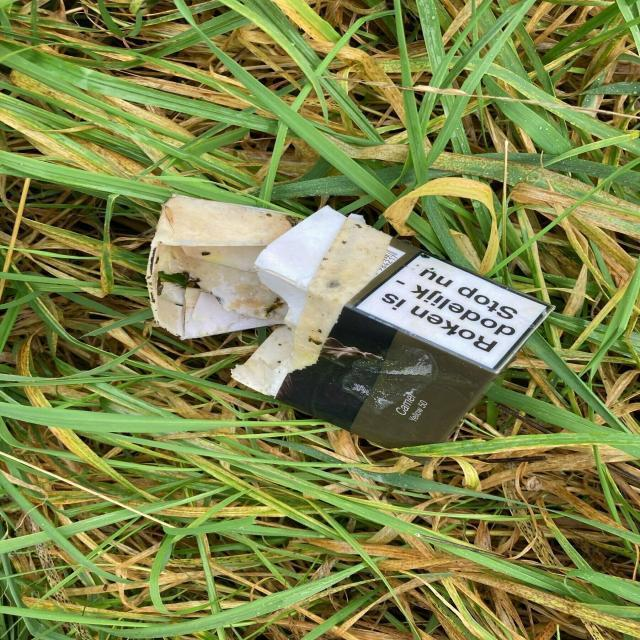Paper: (141, 189, 557, 457)
